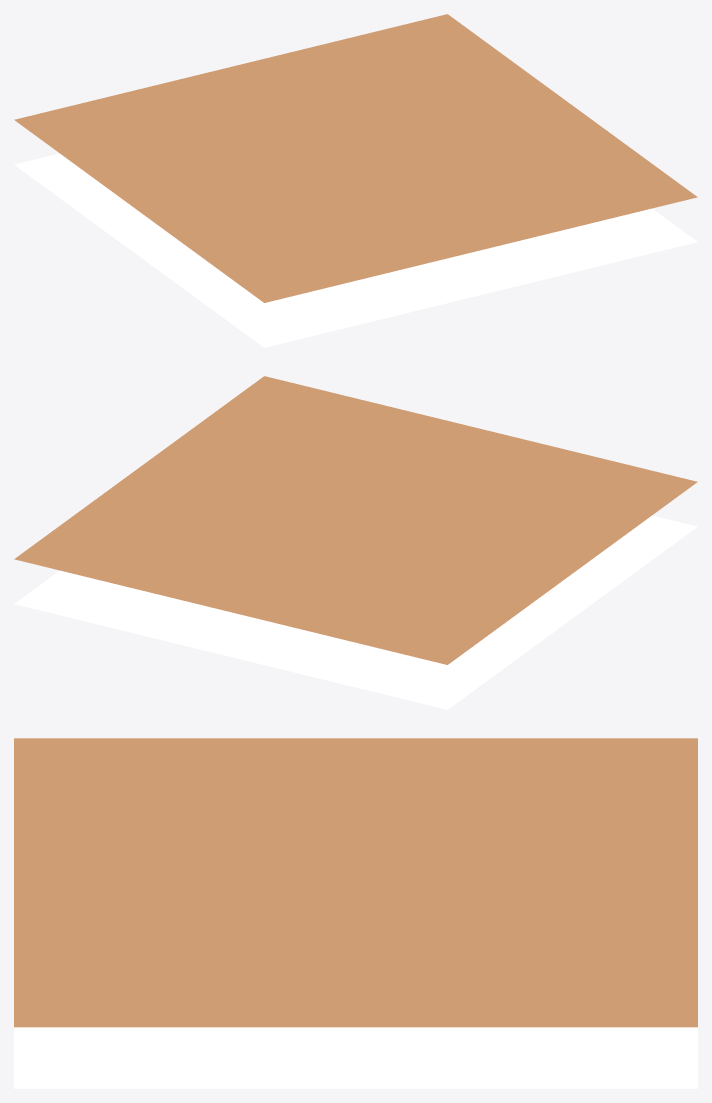
File: soil_tile_full.fbx
3 views of the same model, one above another, from view 1: azimuth 30°, elevation 25°; view 2: azimuth 150°, elevation 25°; view 3: azimuth 270°, elevation 25° (orthographic). The views are drawn at different scales.
Parts seen in each view (by area): view 1: _Corner_full; view 2: _Corner_full; view 3: _Corner_full.
Boxes of the visible parts, box(x1,y1,x2,y2) form: _Corner_full: box(14, 14, 697, 347); _Corner_full: box(14, 376, 697, 709); _Corner_full: box(14, 738, 697, 1088).
Size of the model in its own units: 1 by 1 by 0.0988.
